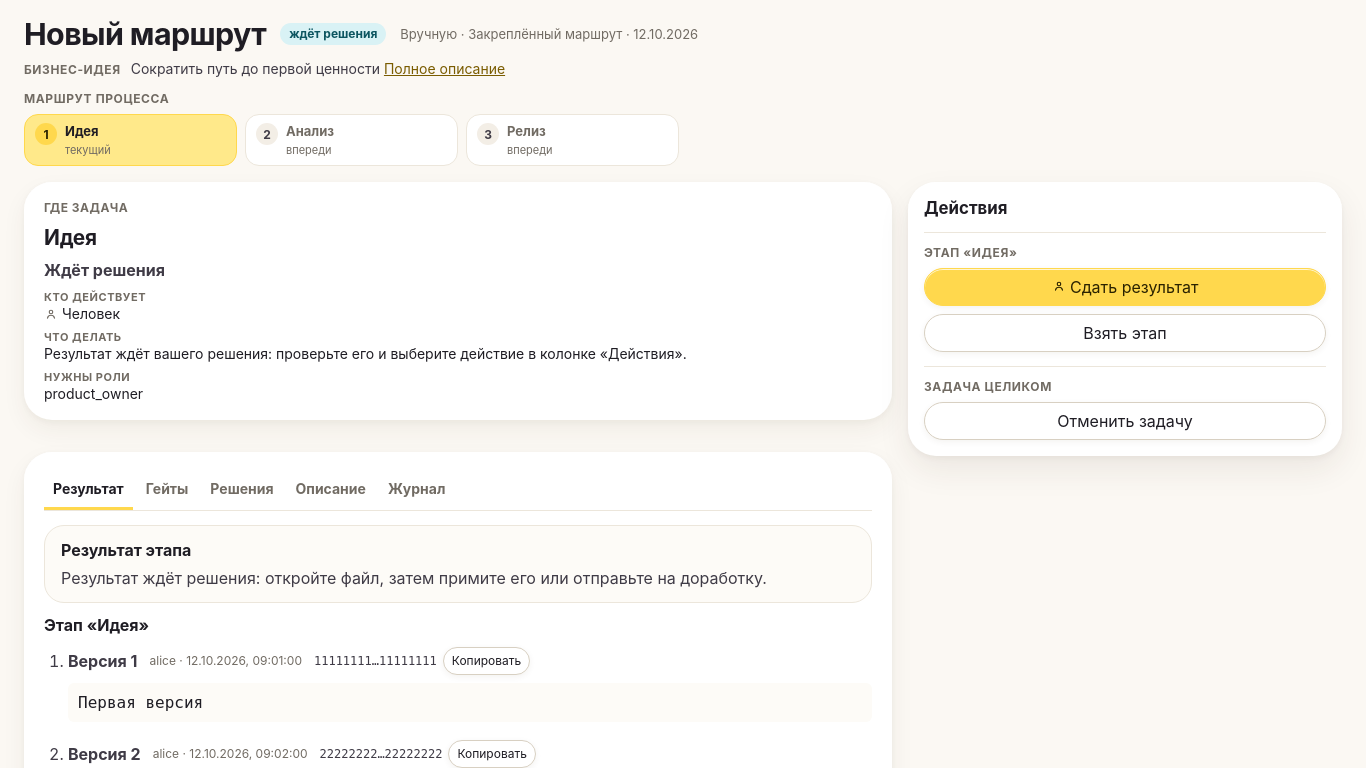
Test: Task detail › submits the configured human result through the task endpoint
Click the button "Сдать результат".
click(1125, 287)  # box [924, 268, 1326, 306]
(page scrolled)
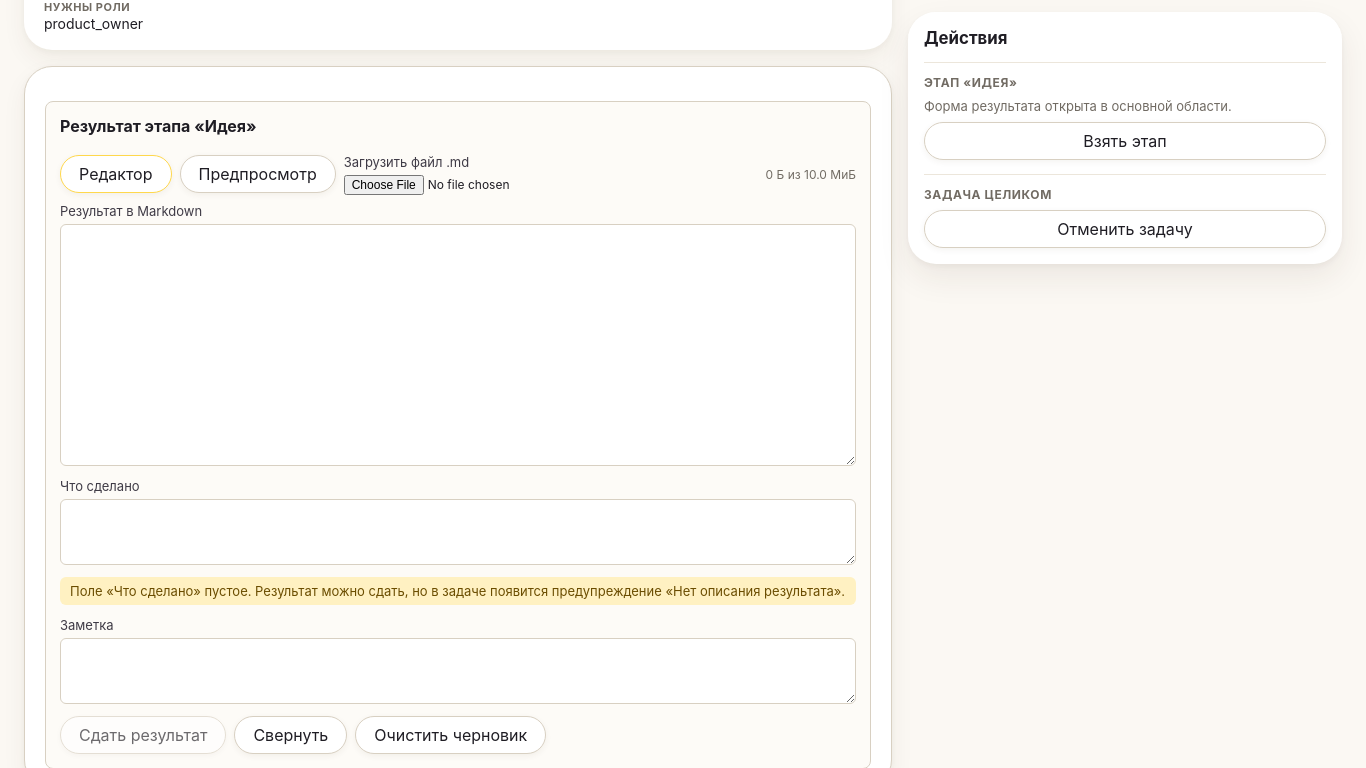
Type "Проверенная идея" into the text box labelled "Результат в Markdown".
click(458, 345); type("Проверенная идея")  # box [60, 224, 856, 466]
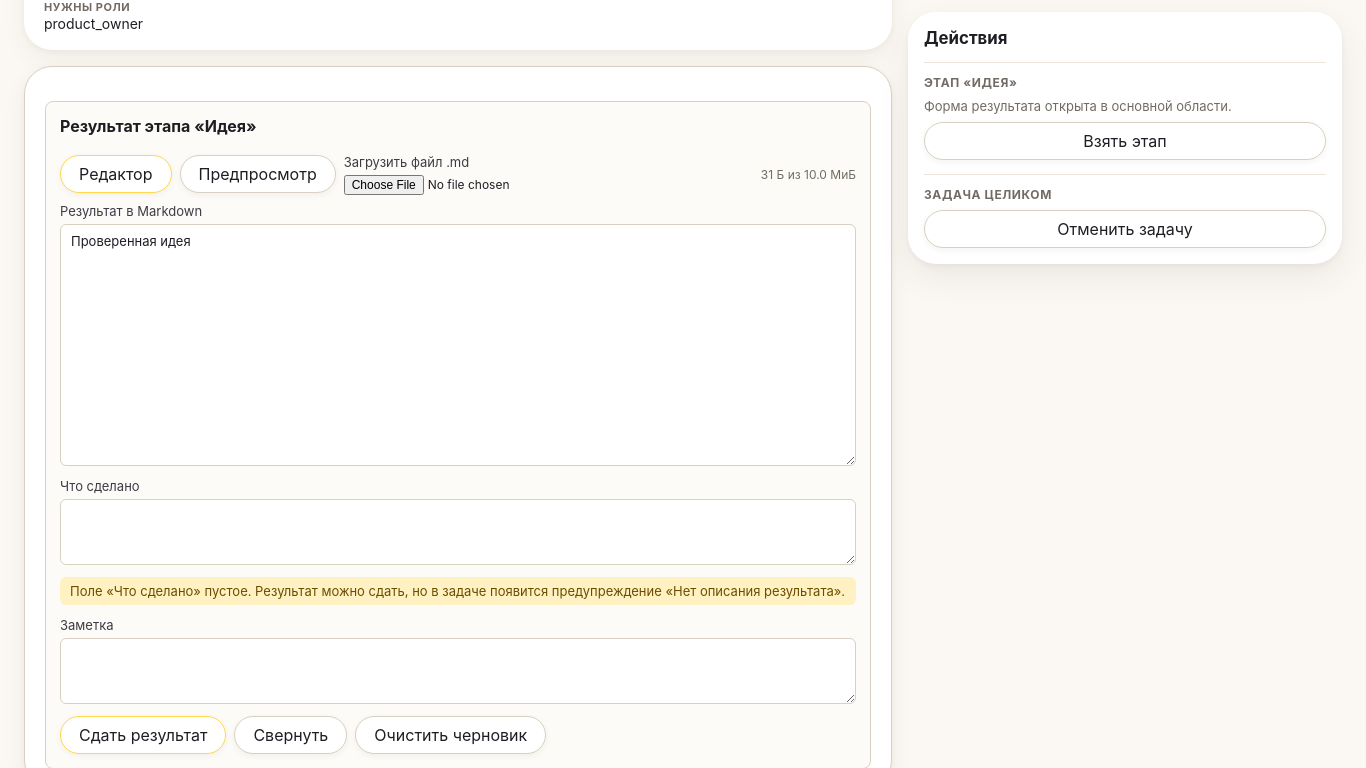
Type "Описаны ограничения" into the text box labelled "Что сделано".
click(458, 532); type("Описаны ограничения")  # box [60, 499, 856, 565]
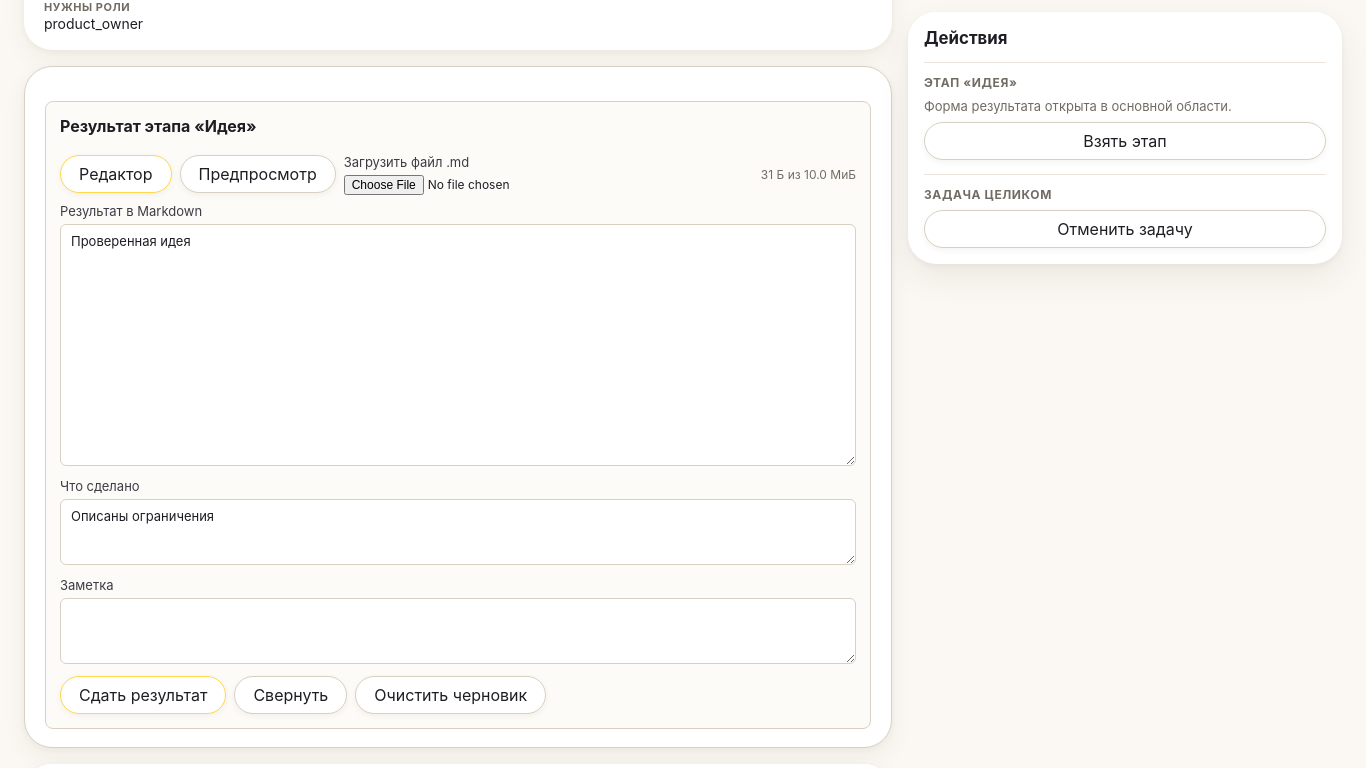
Click the button "Сдать результат".
click(143, 695)  # box [60, 676, 226, 714]
(page scrolled)
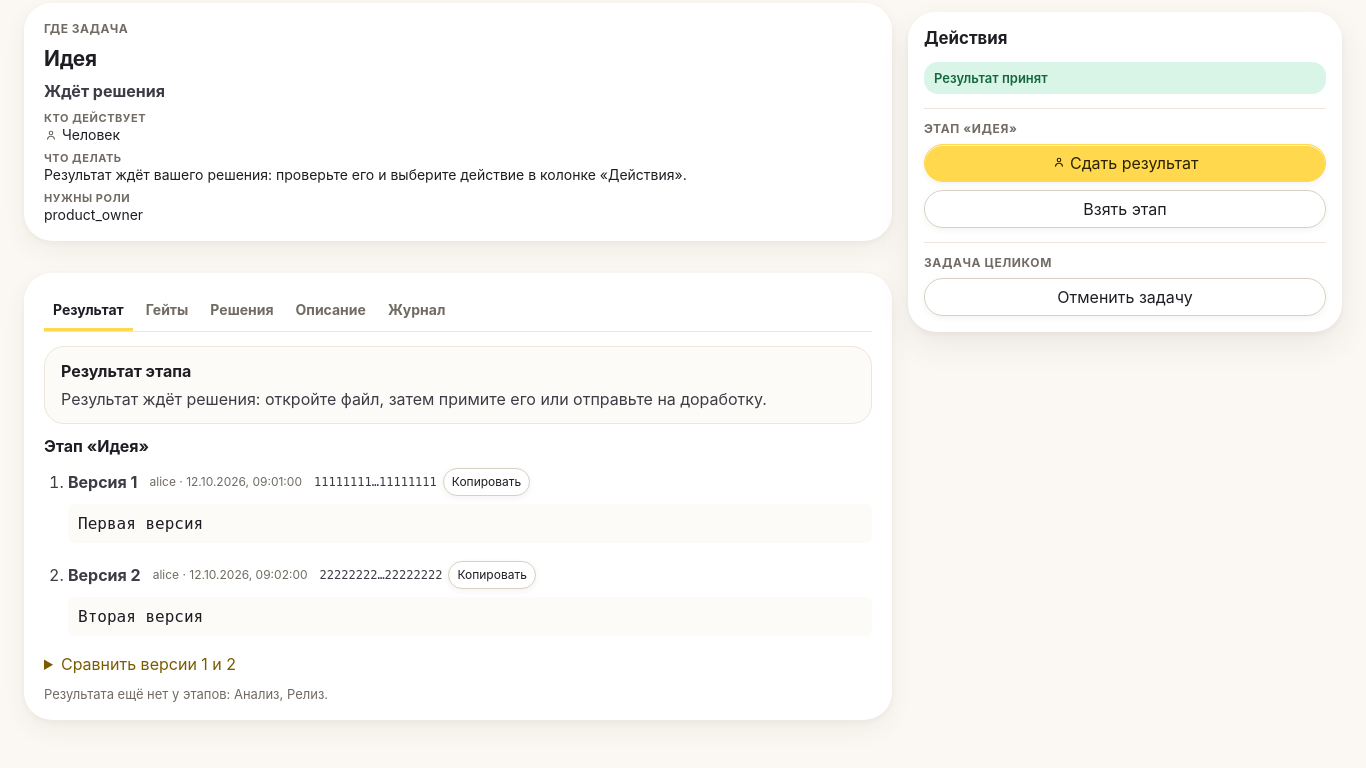
Expected: the text "Результат принят" is shown, [924, 62, 1326, 94]
